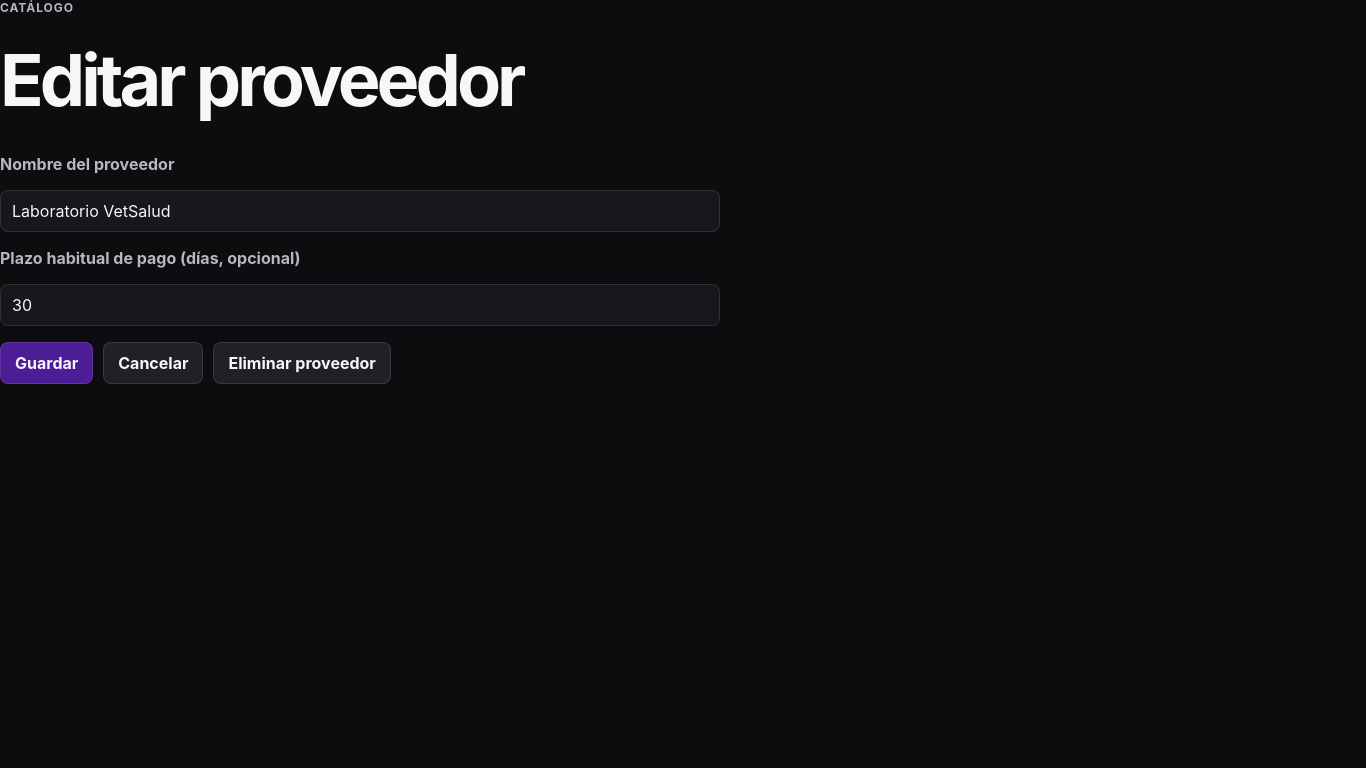
SupplierForm › keeps a supplier active when deletion is cancelled
The image size is (1366, 768).
Click the button "Eliminar proveedor": (302, 363) x1=214 y1=342 x2=391 y2=384
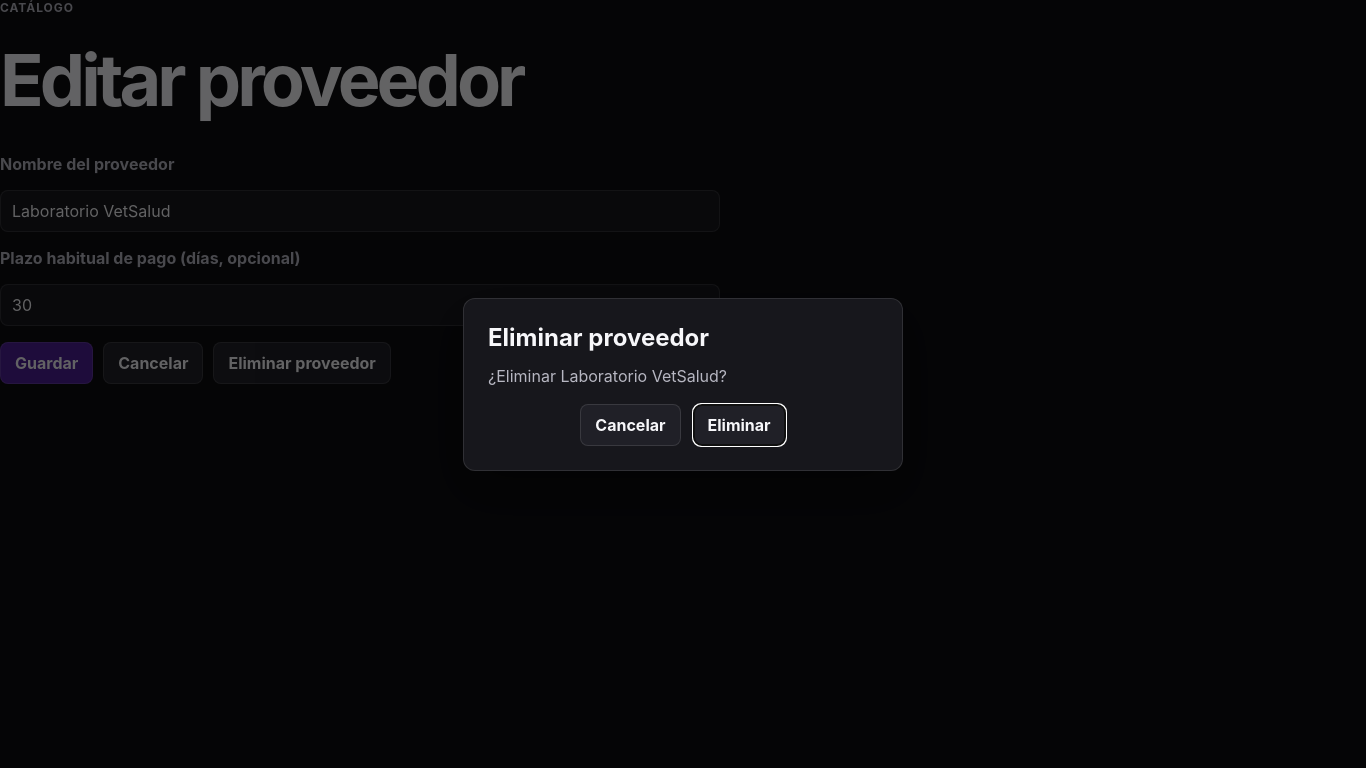
Click the button "Cancelar": (630, 424) x1=580 y1=404 x2=681 y2=446
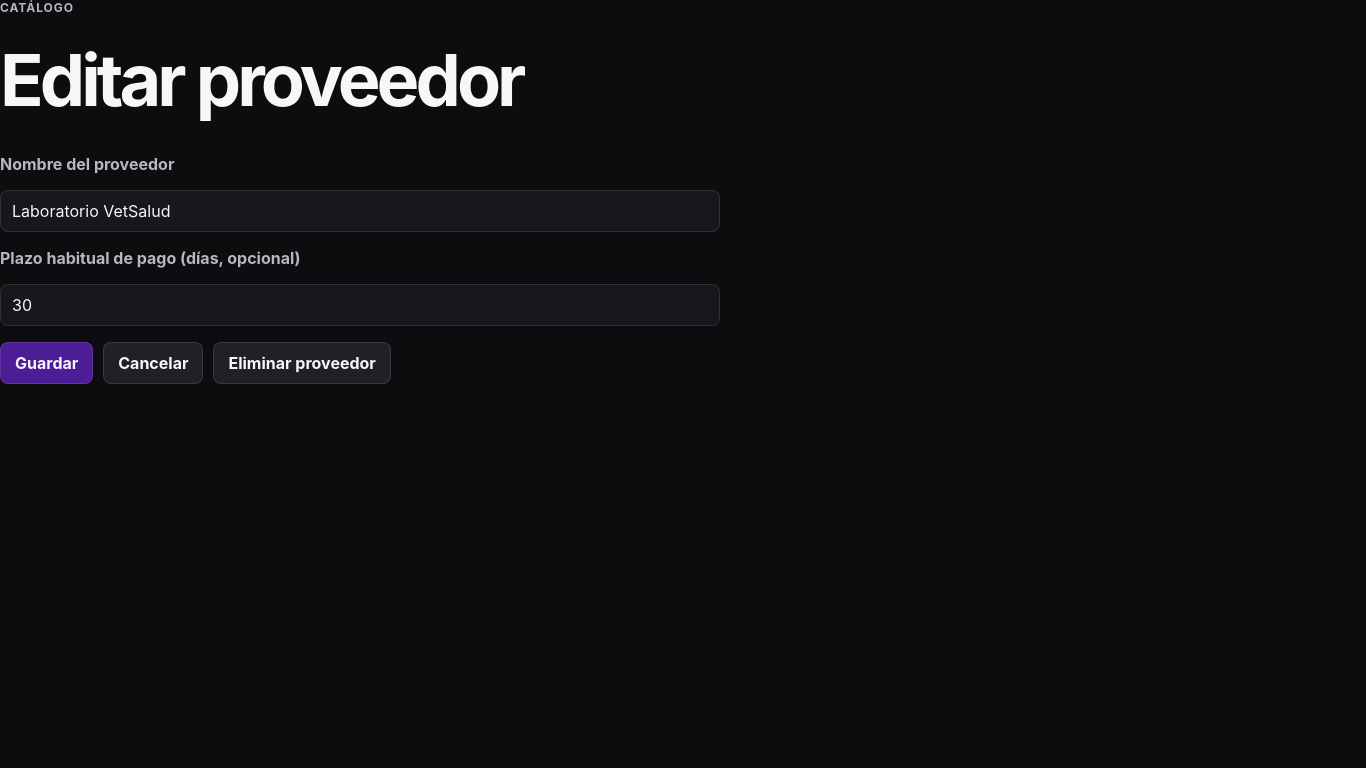
Check: the dialog is gone
